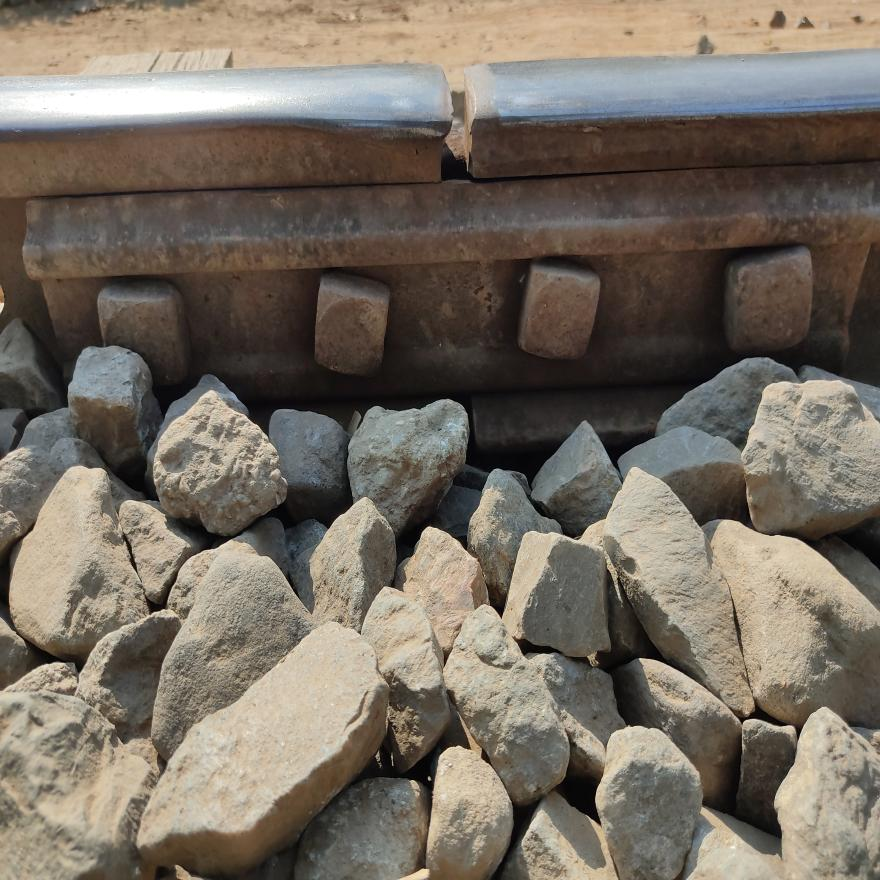railway-gap: (400, 45, 510, 192)
